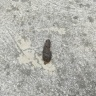Dog: (42, 39, 52, 63)
